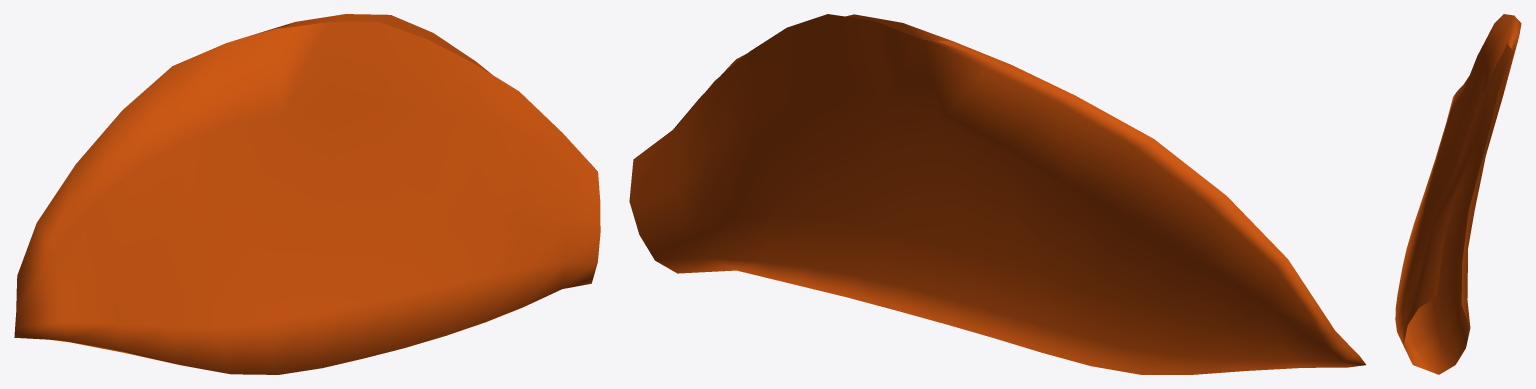
File: ala2.obj
The picture shows the model from 3 angles, left to right: view 1: azimuth 30°, elevation 25°; view 2: azimuth 150°, elevation 25°; view 3: azimuth 270°, elevation 25°; orthographic projection. The views are drawn at different scales.
Parts seen in each view (by area): view 1: Body.002; view 2: Body.002; view 3: Body.002.
Part boxes in pixels (box(x1,y1,x2,y2)): Body.002: box(14, 14, 600, 374); Body.002: box(629, 14, 1365, 374); Body.002: box(1395, 14, 1521, 374).
Size of the model in its own units: 0.2677 by 0.1273 by 0.0621.
